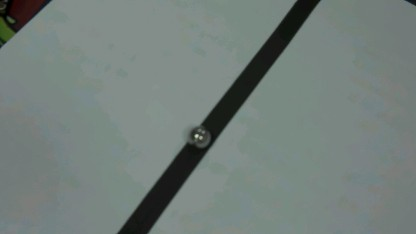ironball: (183, 120, 215, 150)
